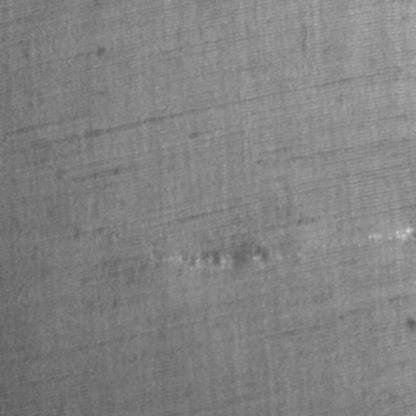thread error: (158, 233, 280, 281)
